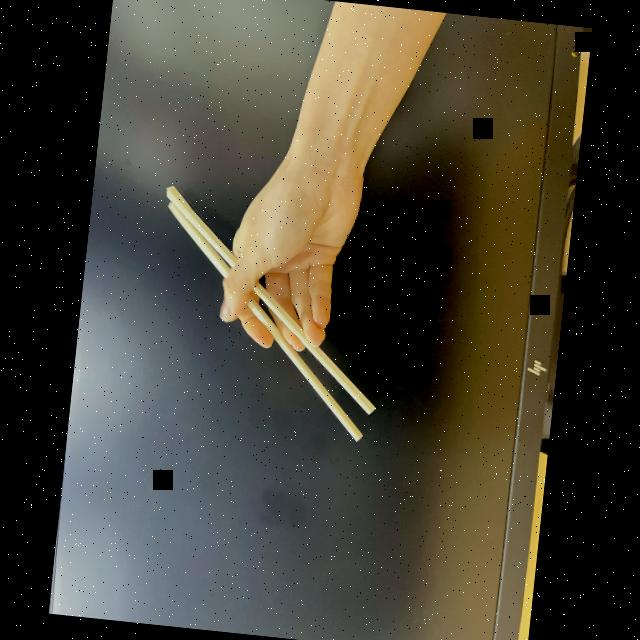stick: (142, 158, 398, 442)
